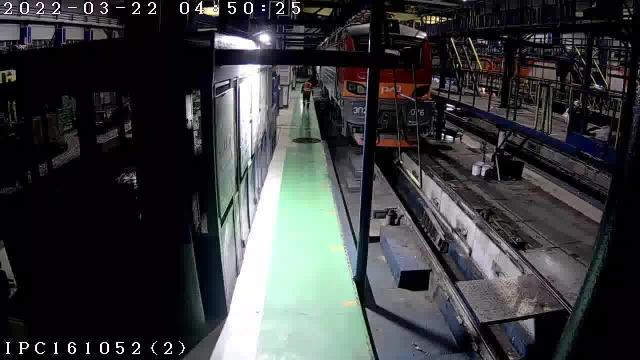person: (302, 79, 312, 107)
train: (376, 19, 432, 147)
